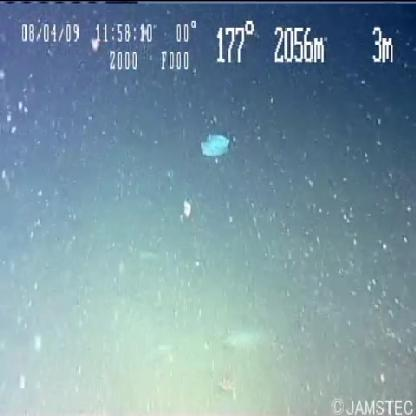Rác: (194, 123, 258, 172)
